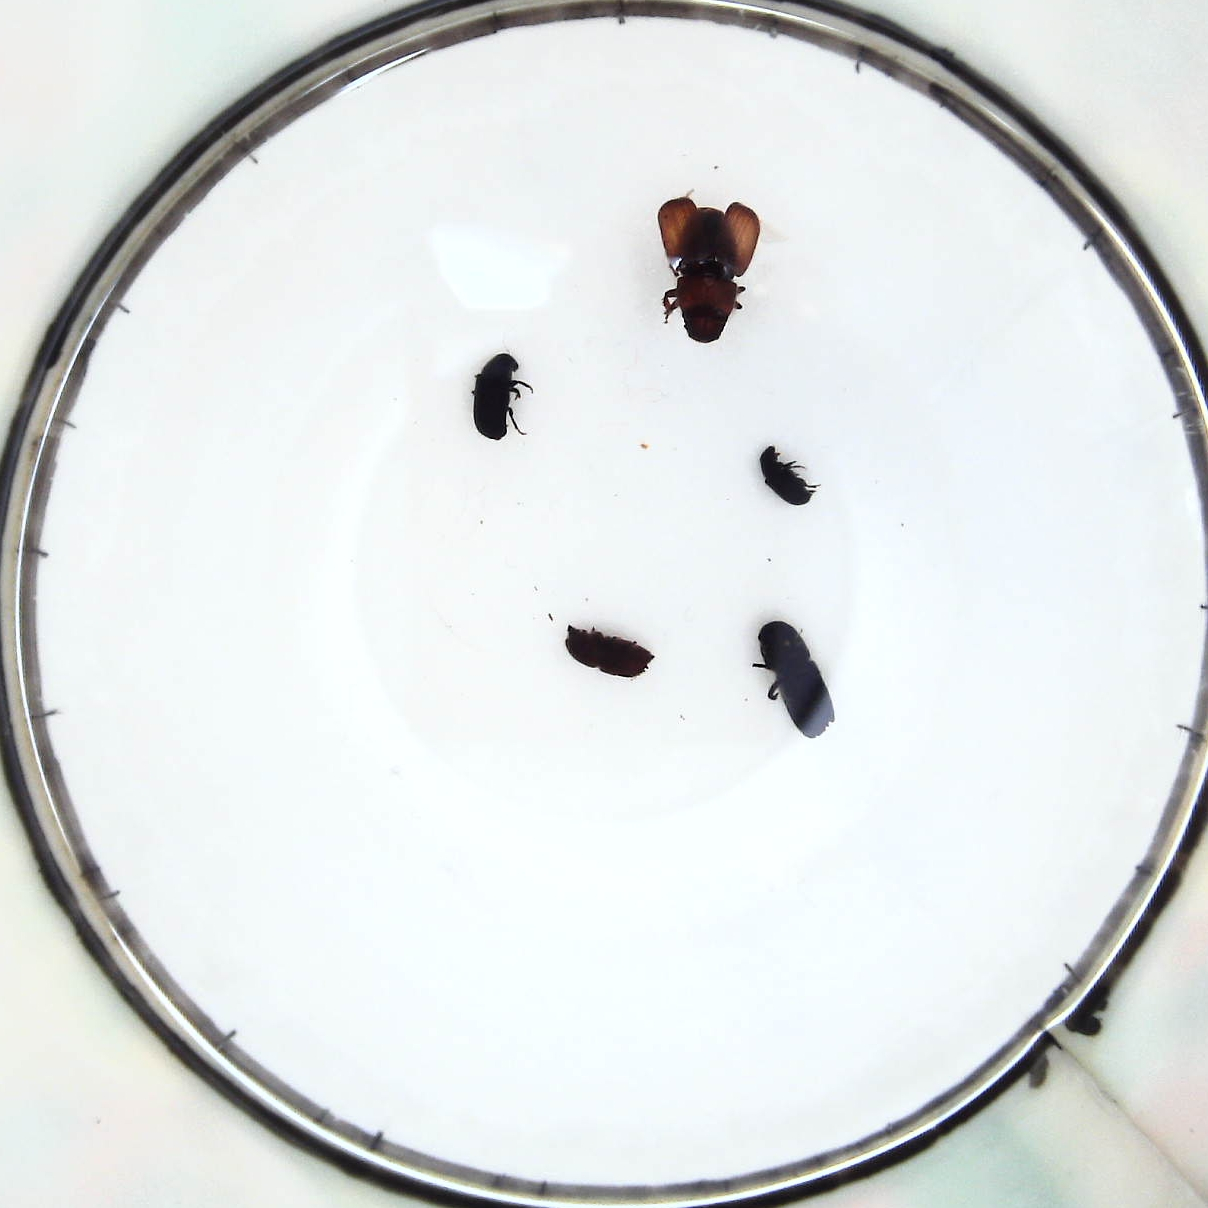Boerner: (756, 615, 834, 746)
Leconte: (657, 202, 762, 339)
Linnaeus: (564, 627, 652, 685)
armandi: (472, 351, 528, 444)
coleoptera: (752, 444, 811, 500)
